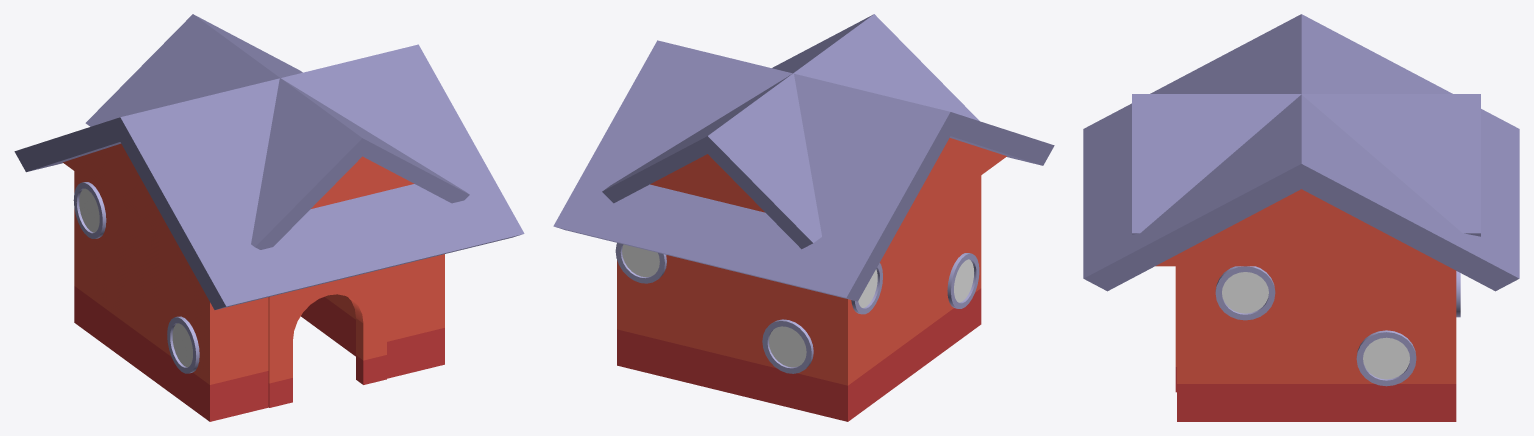
Rendered from home (2).glb.
3 views of the same model, side by side, from view 1: azimuth 30°, elevation 25°; view 2: azimuth 150°, elevation 25°; view 3: azimuth 270°, elevation 25° (orthographic). The views are drawn at different scales.
Visible parts, largest first — view 1: mergedBlocks(Clone); view 2: mergedBlocks(Clone); view 3: mergedBlocks(Clone).
Boxes of the visible parts, left/top/right/bottom form: mergedBlocks(Clone): left=14, top=14, right=524, bottom=421; mergedBlocks(Clone): left=553, top=14, right=1054, bottom=421; mergedBlocks(Clone): left=1083, top=14, right=1519, bottom=421.
Bounding box in the file's own units: 2.54 × 2.18 × 3.12.
